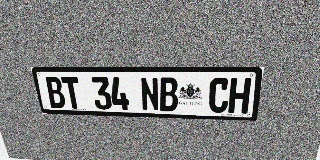3: (91, 77, 112, 110)
4: (109, 77, 130, 110)
B: (44, 77, 67, 108), (159, 77, 178, 112)
C: (208, 78, 230, 113)
H: (228, 78, 252, 113)
N: (140, 77, 159, 111)
T: (61, 77, 83, 109)
